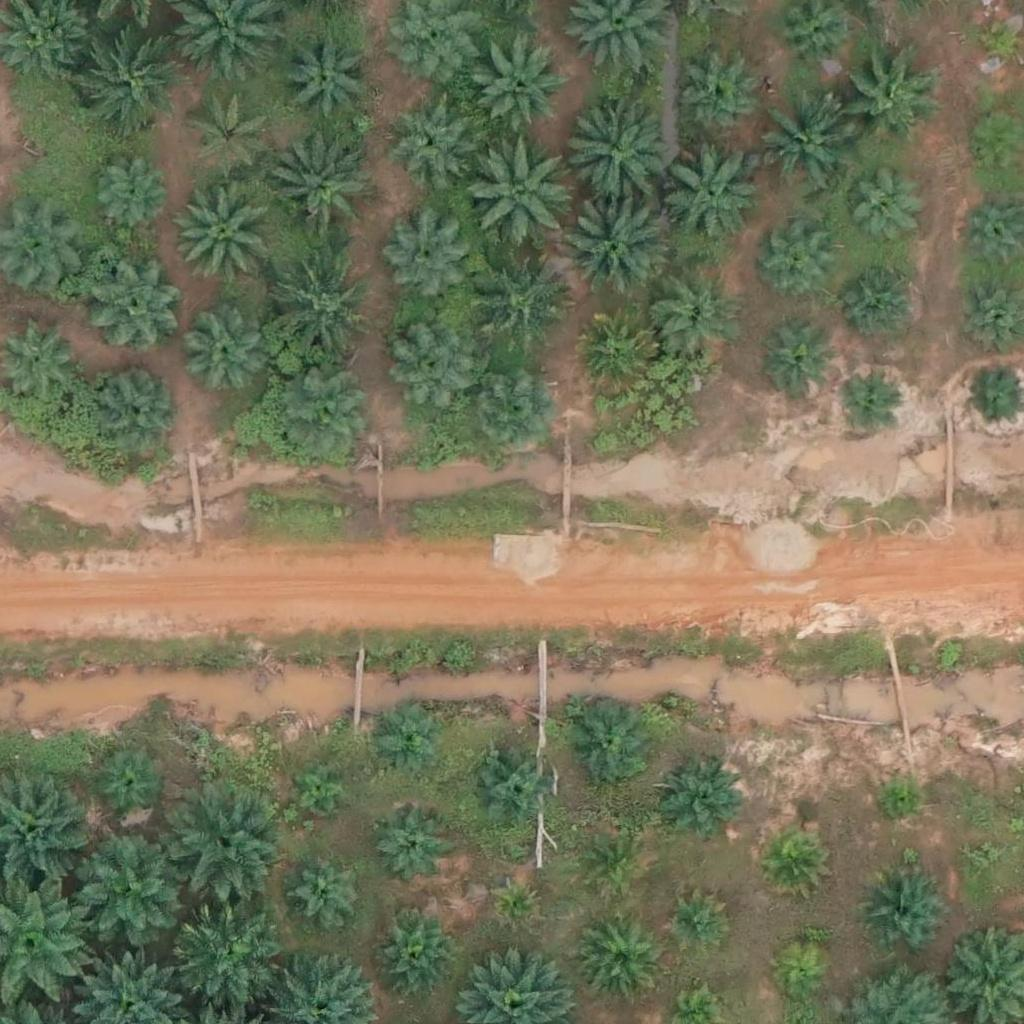Kelapa_Sawit: (174, 906, 287, 1019), (166, 789, 279, 902), (72, 834, 185, 947), (561, 189, 674, 302), (553, 93, 666, 206), (461, 135, 573, 249), (261, 258, 373, 371), (72, 25, 184, 138), (836, 49, 936, 150), (750, 98, 850, 199), (660, 146, 760, 247), (468, 251, 568, 352), (270, 144, 370, 245), (174, 184, 274, 285), (279, 371, 379, 471), (83, 251, 183, 351), (860, 866, 948, 954), (466, 743, 554, 831), (372, 910, 460, 998), (568, 309, 656, 397), (478, 47, 566, 135), (380, 215, 468, 303), (94, 359, 182, 447), (391, 322, 478, 411), (189, 90, 276, 179), (567, 699, 654, 787), (576, 914, 663, 1002), (676, 56, 763, 144), (653, 276, 740, 364), (469, 368, 556, 456), (381, 93, 468, 181), (284, 32, 371, 120), (88, 153, 175, 241), (186, 312, 273, 400), (663, 767, 738, 843), (372, 809, 447, 885), (842, 173, 917, 249), (844, 261, 919, 337), (762, 228, 837, 303), (760, 328, 835, 403), (374, 706, 437, 769), (96, 754, 159, 817), (763, 827, 826, 890), (833, 369, 896, 432), (295, 861, 357, 924), (586, 833, 648, 896), (773, 946, 823, 997), (670, 897, 720, 947), (297, 766, 347, 816), (879, 781, 916, 819), (494, 882, 531, 919), (968, 844, 993, 870)
